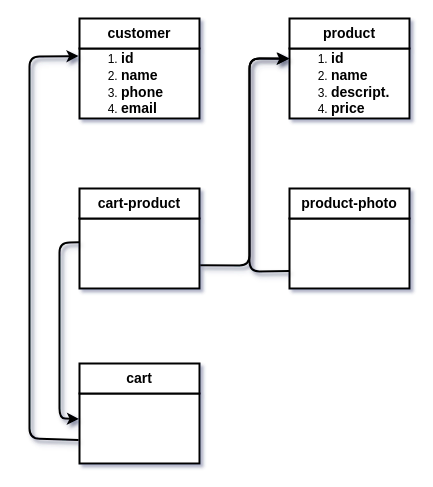
This 433x487 diagram has some shape labels left out. The centre of each missing label's shape, as x and y in pixels:
"cart-id product-id" belongs at point 139,253.
"id custmr-id" belongs at point 139,428.
"id url product-id" belongs at point 349,253.
